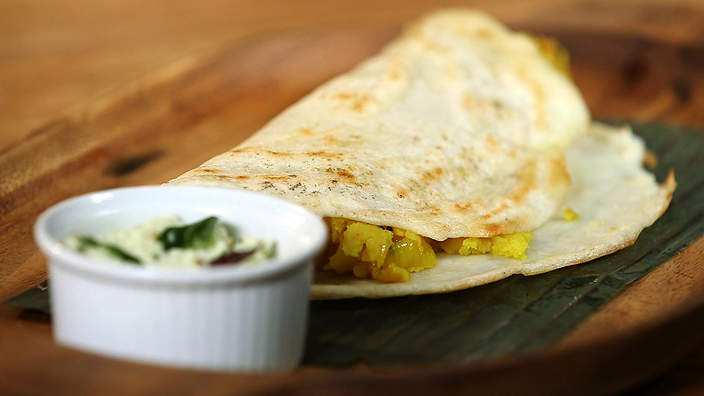dosa: (132, 1, 704, 309)
